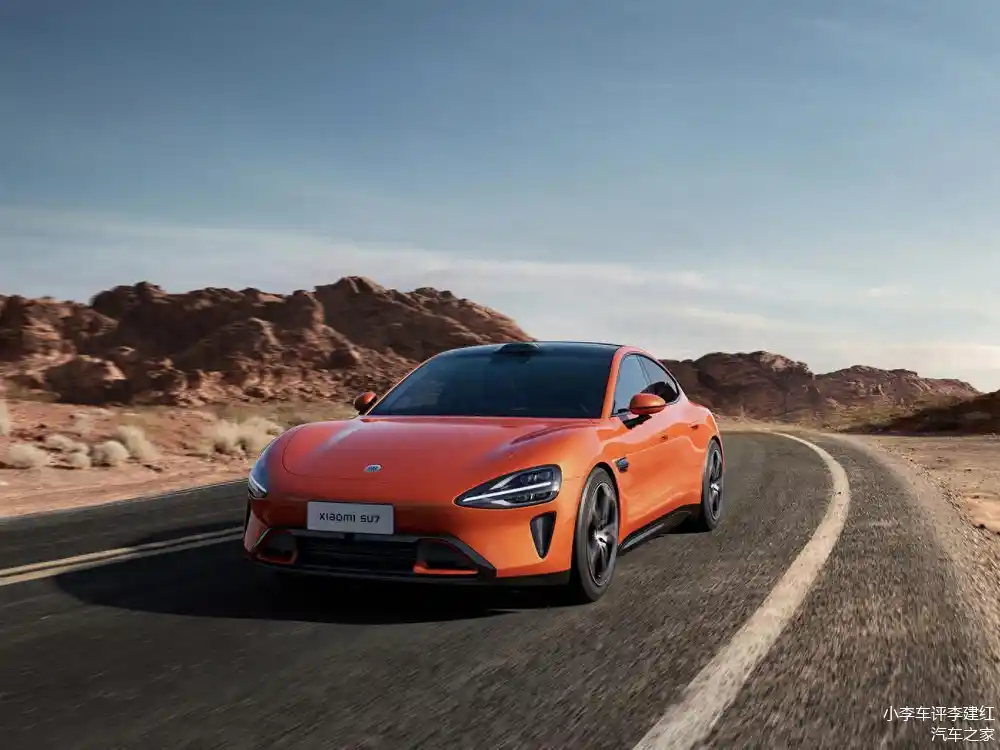su7: (245, 334, 723, 601)
